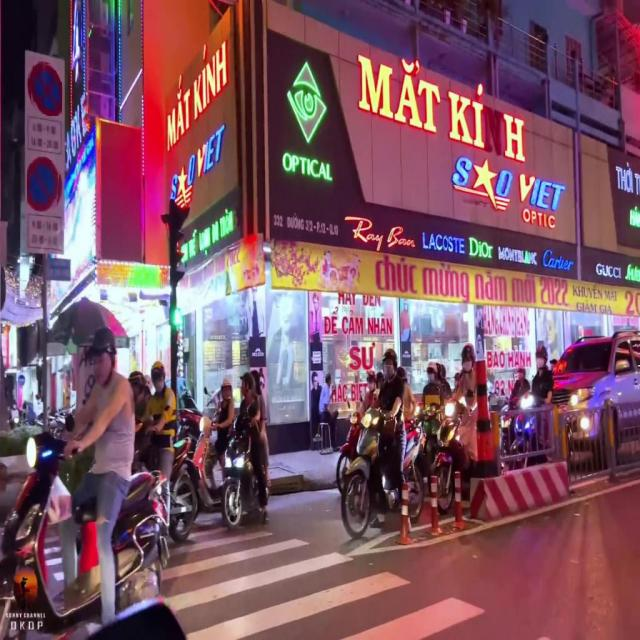cam_do_xe: (28, 156, 62, 212)
cam_dung_xe_va_do_xe: (28, 62, 62, 116)
